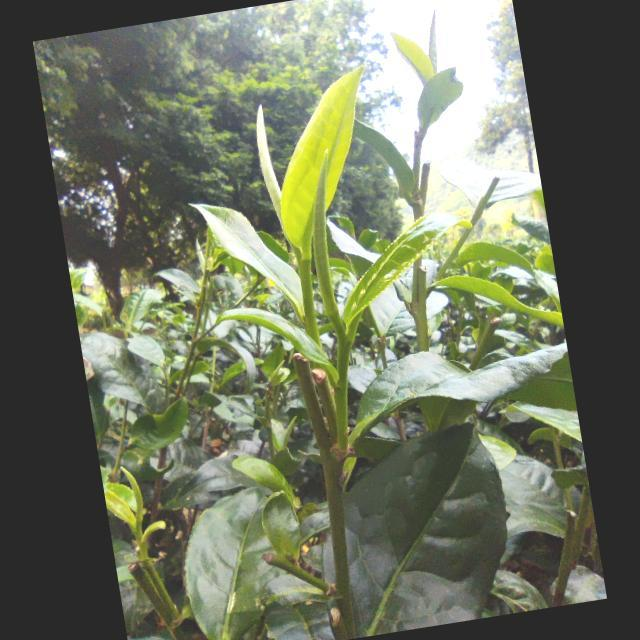Stem: (338, 336, 351, 351), (301, 260, 310, 274)
